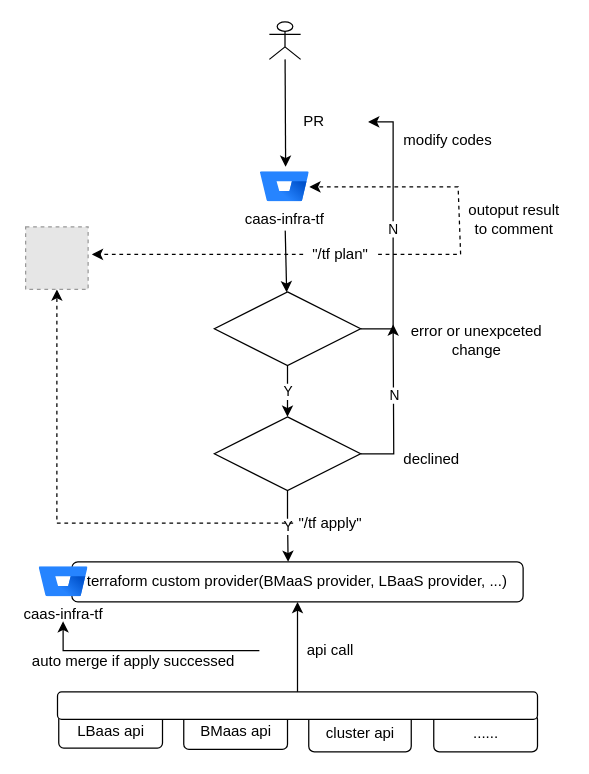
Some shapes in this 589 by 774 pixel diagram are drawn without their labels. Grey dashed boxes stand in for pictures. The shapes that lost their labels are listed below. From the top down, each one's box as (x1, y1, x2, y2) in pixels, then its label:
(268, 21, 301, 59): caas admin
(213, 291, 361, 366): result check
(213, 416, 361, 491): PR review
(56, 691, 538, 719): one cloud api
